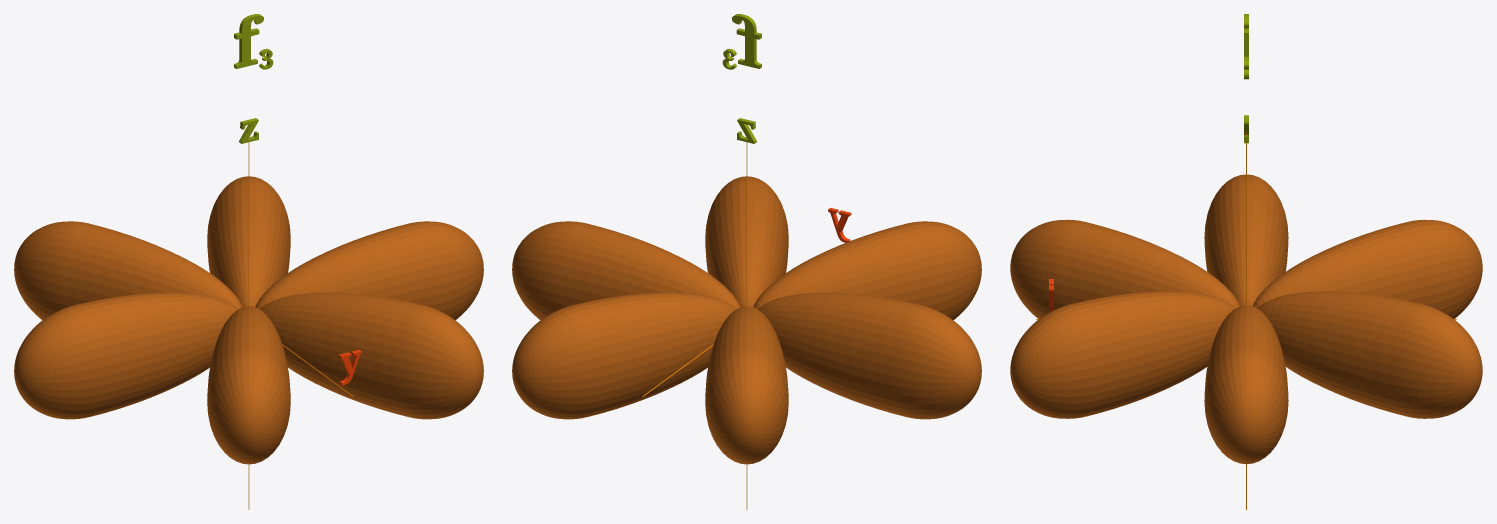
The picture shows the model from 3 angles, left to right: view 1: azimuth 30°, elevation 25°; view 2: azimuth 150°, elevation 25°; view 3: azimuth 270°, elevation 25°; orthographic projection.
Parts seen in each view (by area): view 1: Mesh_Mesh_head_geo001_lambert2SG001; view 2: Mesh_Mesh_head_geo001_lambert2SG001; view 3: Mesh_Mesh_head_geo001_lambert2SG001.
Boxes of the visible parts, left/top/right/bottom form: Mesh_Mesh_head_geo001_lambert2SG001: left=14, top=14, right=483, bottom=509; Mesh_Mesh_head_geo001_lambert2SG001: left=512, top=14, right=981, bottom=509; Mesh_Mesh_head_geo001_lambert2SG001: left=1010, top=14, right=1482, bottom=509.
Bounding box in the file's own units: 108 × 109 × 94.4.
